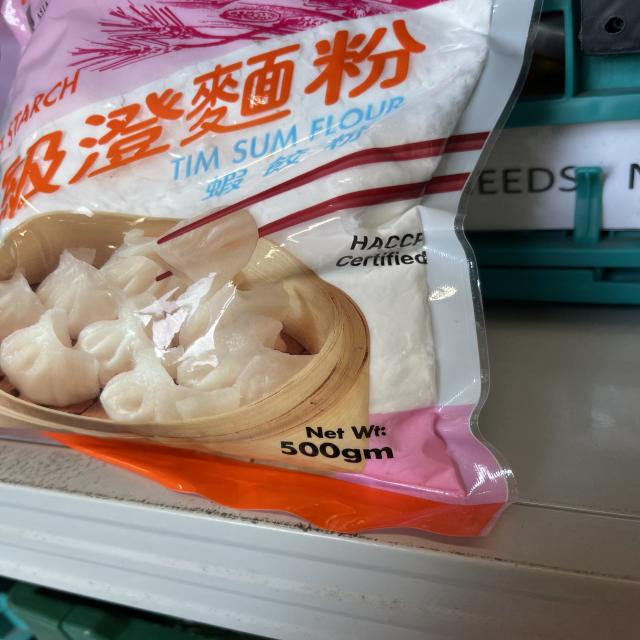object_name: (6, 2, 462, 509)
